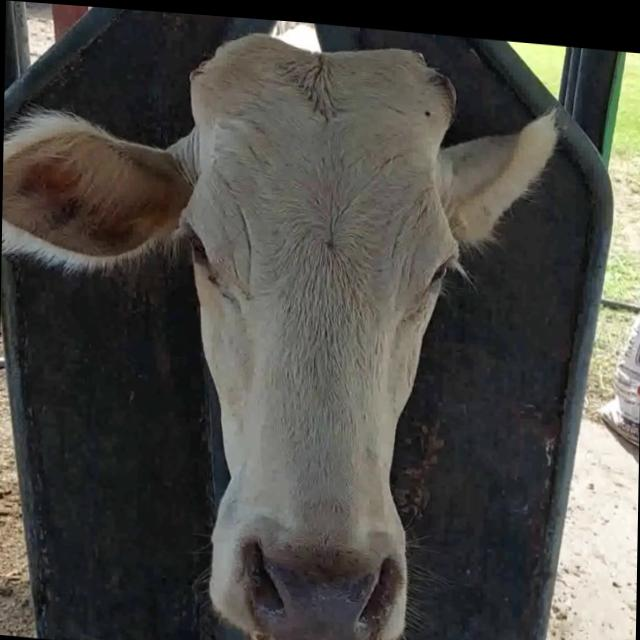cowFace: (176, 17, 454, 640)
